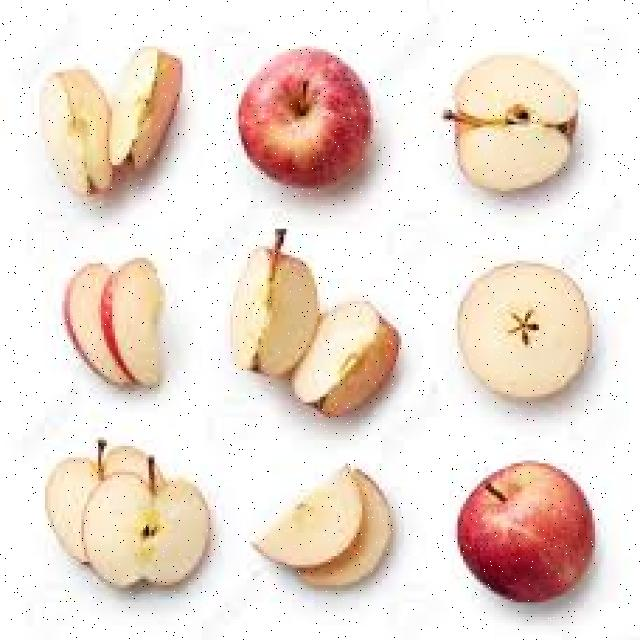Apple: (437, 54, 584, 197), (457, 258, 592, 403), (456, 460, 594, 600), (238, 45, 371, 189), (86, 461, 209, 590), (250, 464, 364, 566), (300, 301, 405, 411), (233, 230, 312, 376), (41, 444, 155, 540), (37, 68, 115, 197), (114, 43, 184, 170), (104, 261, 174, 384), (59, 263, 112, 397)
